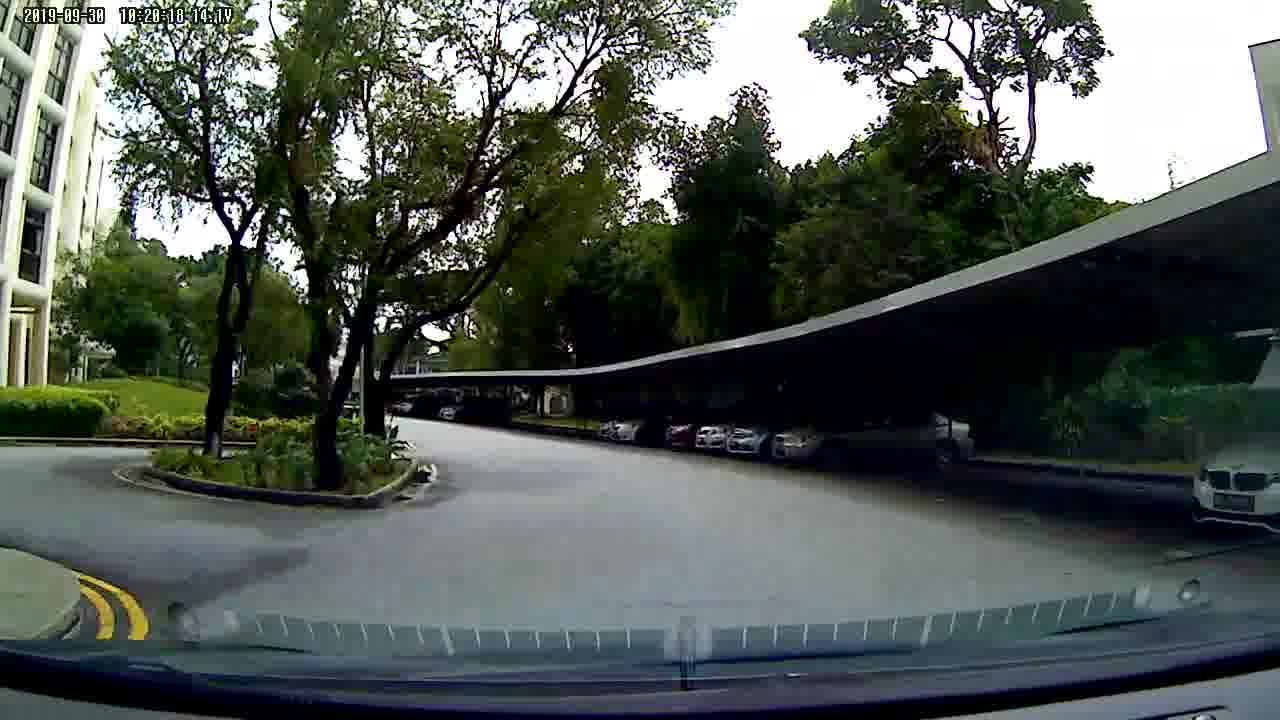car: (595, 413, 981, 478), (1177, 422, 1280, 529)
